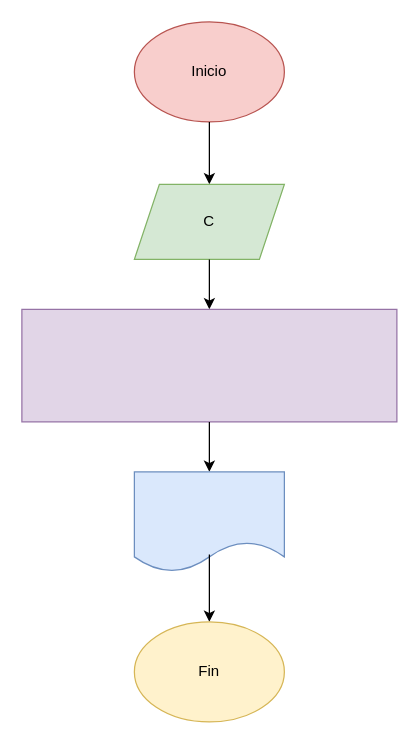
Some shapes in this 419 by 744 pixel diagram are drawn without their labels. The shapes that lost their labels are listed below. From the top down, each one's box as (x1, y1, x2, y2) in pixels, then its label:
(21, 308, 397, 422): F = 9/5*C + 32 K = C + 273.15
(133, 471, 284, 572): F, K
